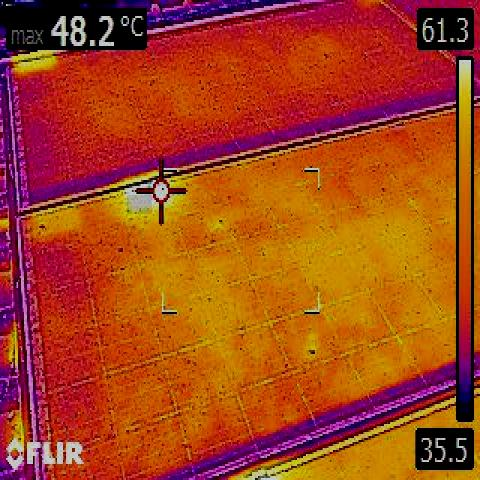fault: (127, 195, 152, 214)
